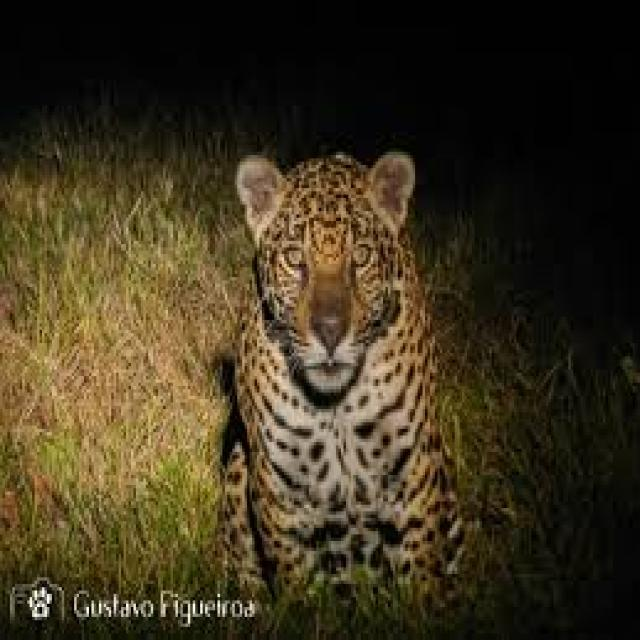Jaguar: (190, 122, 474, 594)
